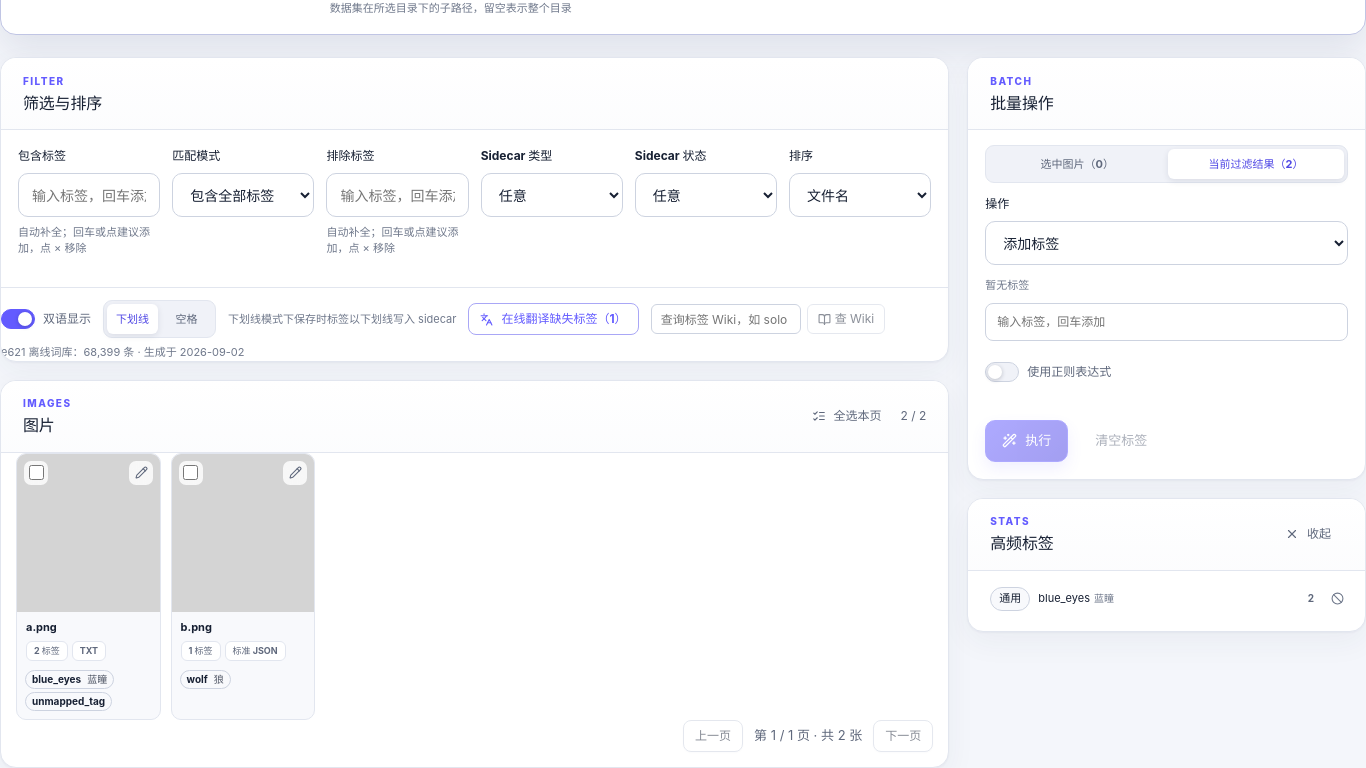
on-demand tag translation › translates the open image tags from the editor drawer and saves them
This screenshot has width=1366, height=768.
(page scrolled)
Double-click the button titled "a.png": (88, 545) left=17, top=454, right=160, bottom=637
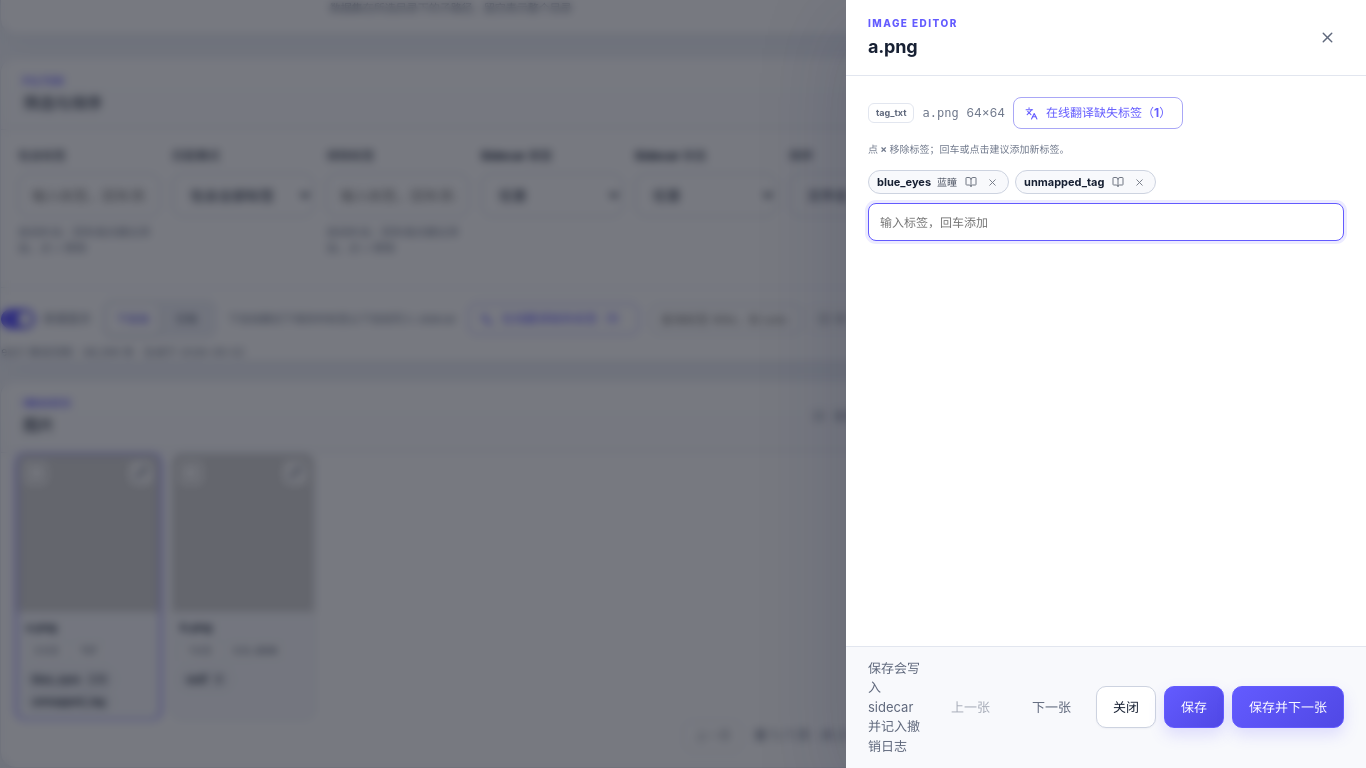
Click the button "在线翻译缺失标签（1）": (1098, 113) left=1013, top=97, right=1183, bottom=129
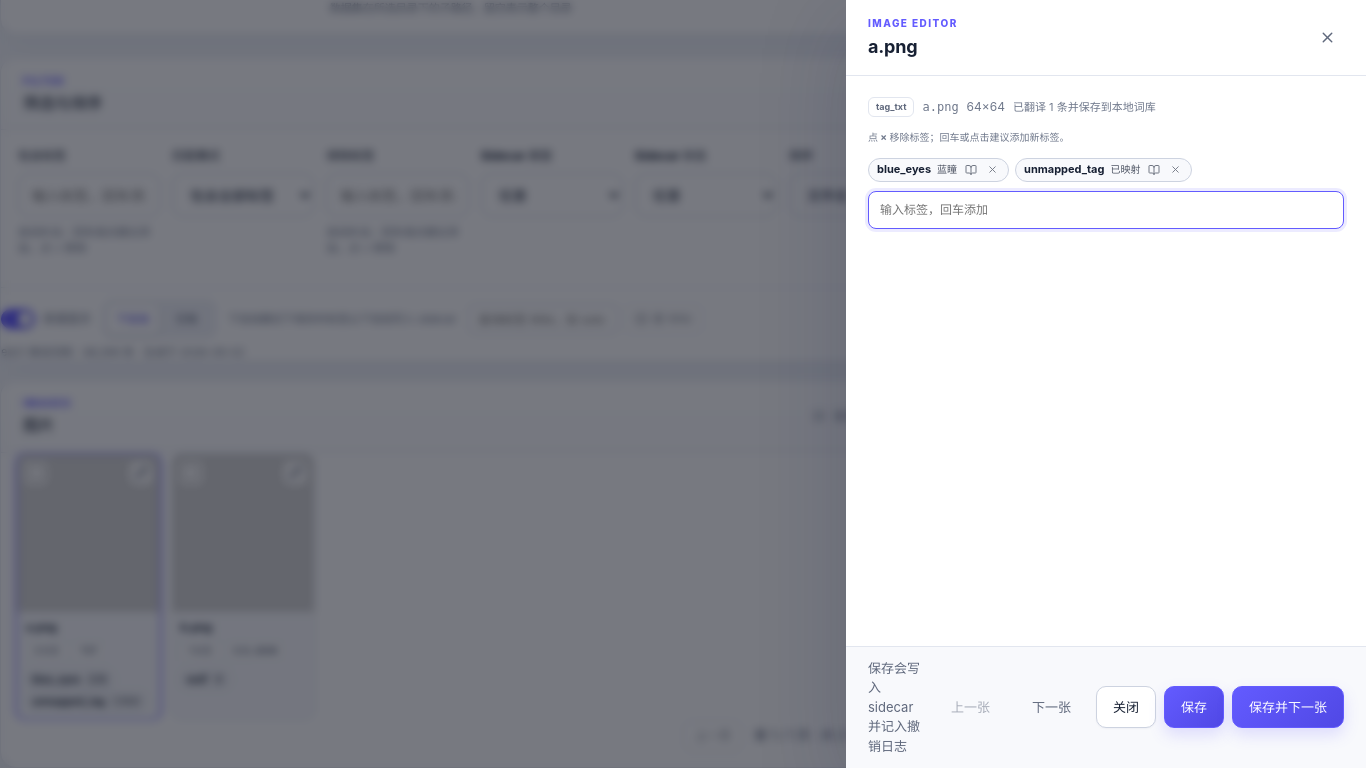
Check: the element named "移除 unmapped_tag" is shown, box left=1015, top=158, right=1192, bottom=182
Check: the element named "移除 unmapped_tag" shows "已映射", box left=1110, top=163, right=1140, bottom=175
Check: the text "已翻译 1 条并保存到本地词库" is shown, box left=1013, top=98, right=1156, bottom=115
